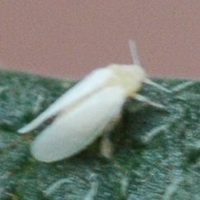insect: (18, 41, 153, 161)
